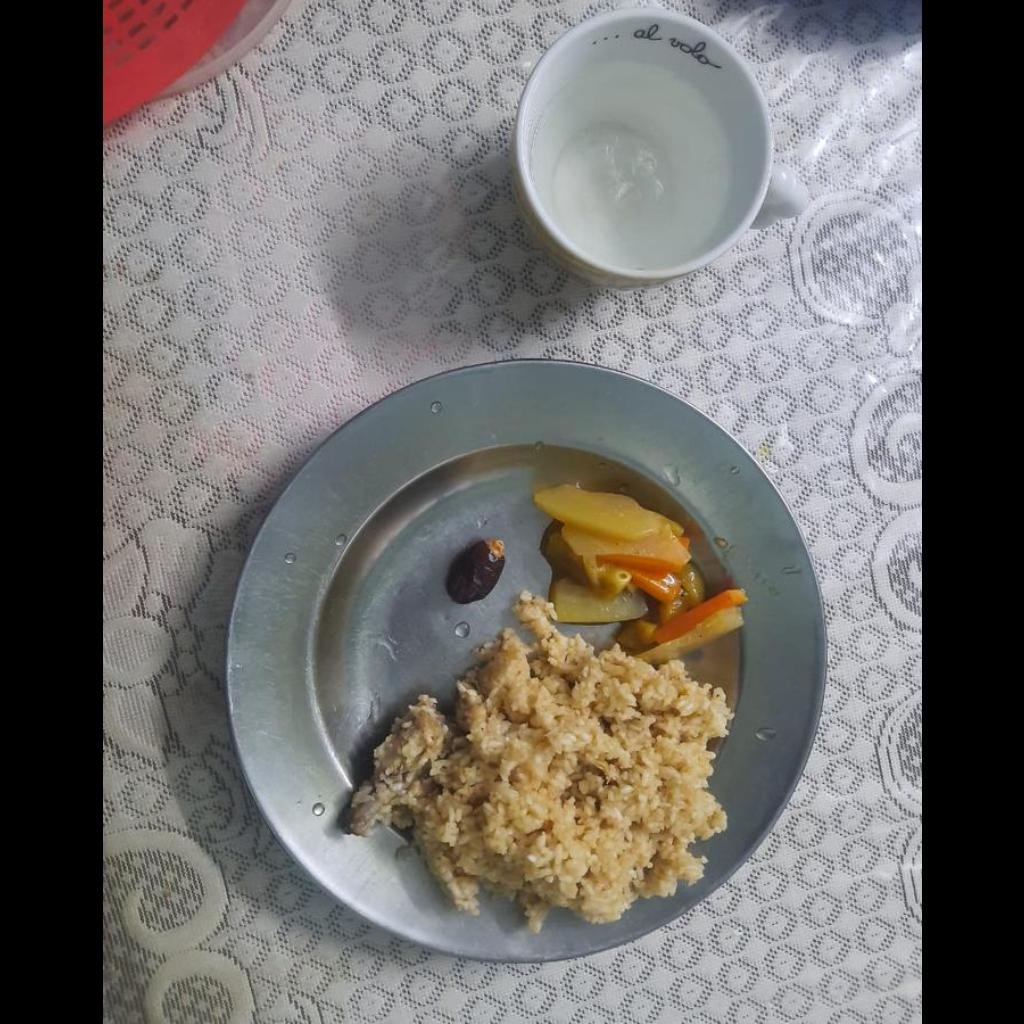biriyani: (350, 593, 729, 931)
dates: (444, 539, 504, 604)
juice: (530, 63, 731, 271)
vegetable: (533, 485, 744, 656)
